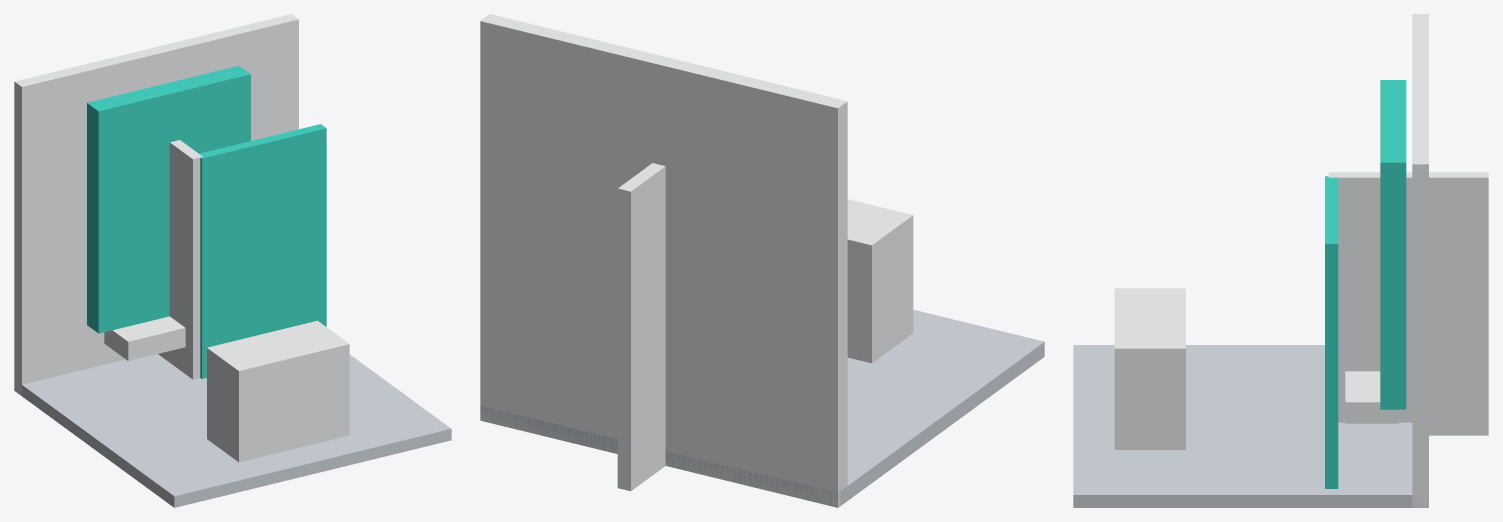
The picture shows the model from 3 angles, left to right: view 1: azimuth 30°, elevation 25°; view 2: azimuth 150°, elevation 25°; view 3: azimuth 270°, elevation 25°; orthographic projection. The views are drawn at different scales.
Visible parts, largest first — view 1: Exhibition Booth Concept; view 2: Exhibition Booth Concept; view 3: Exhibition Booth Concept.
Boxes of the visible parts, box(x1,y1,x2,y2) form: Exhibition Booth Concept: box(14, 14, 451, 507); Exhibition Booth Concept: box(480, 14, 1044, 507); Exhibition Booth Concept: box(1073, 14, 1488, 507).
Bounding box in the file's own units: 3 × 3.2 × 3.51.
